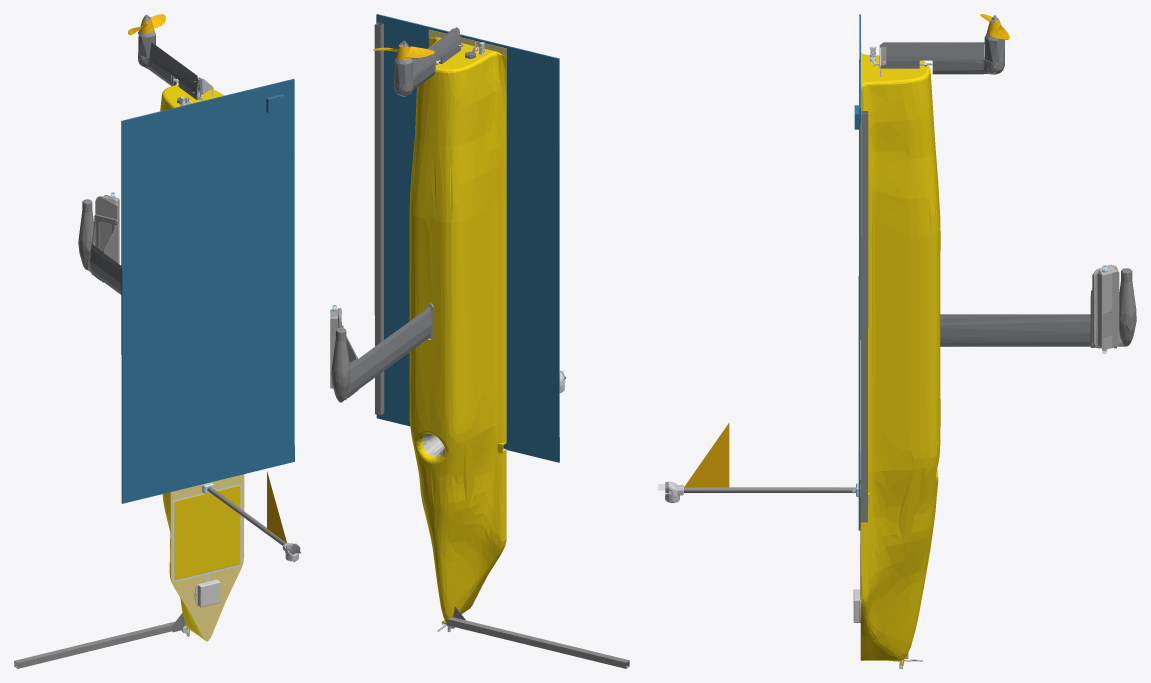
Rendered from warden-low-poly.glb.
3 views of the same model, side by side, from view 1: azimuth 30°, elevation 25°; view 2: azimuth 150°, elevation 25°; view 3: azimuth 270°, elevation 25° (orthographic). The views are drawn at different scales.
Visible parts, largest first — view 1: mesh_17, mesh_7_1, mesh_14_1, mesh_17_4, mesh_9_1, mesh_15, mesh_14, mesh_9_2, mesh_2, mesh_17_6; view 2: mesh_7_1, mesh_17, mesh_9_1, mesh_17_4, mesh_15, mesh_14_1, mesh_0_2, mesh_14, mesh_9_2; view 3: mesh_7_1, mesh_17_4, mesh_9_1, mesh_14, mesh_9_2, mesh_17, mesh_14_1, mesh_5.
Boxes of the visible parts, x1,y1,x2,y2 form: mesh_17: (121, 79, 294, 503); mesh_7_1: (160, 84, 240, 640); mesh_14_1: (170, 474, 244, 641); mesh_17_4: (90, 14, 300, 554); mesh_9_1: (78, 52, 286, 545); mesh_15: (14, 621, 174, 668); mesh_14: (128, 14, 286, 542); mesh_9_2: (95, 195, 119, 264); mesh_2: (173, 80, 241, 581); mesh_17_6: (194, 579, 220, 607); mesh_7_1: (409, 37, 506, 622); mesh_17: (376, 14, 559, 462); mesh_9_1: (331, 22, 413, 415); mesh_17_4: (346, 27, 565, 398); mesh_15: (446, 617, 629, 668); mesh_14_1: (428, 29, 506, 606); mesh_0_2: (345, 28, 564, 456); mesh_14: (373, 33, 459, 59); mesh_9_2: (330, 307, 341, 388); mesh_7_1: (860, 52, 940, 660); mesh_17_4: (665, 15, 1090, 492); mesh_9_1: (684, 59, 1136, 522); mesh_14: (684, 14, 1009, 487); mesh_9_2: (1092, 264, 1119, 349); mesh_17: (854, 14, 860, 530); mesh_14_1: (860, 43, 868, 660); mesh_5: (1102, 271, 1118, 346).
Size of the model in its own units: 1.02 by 2.22 by 1.47.
